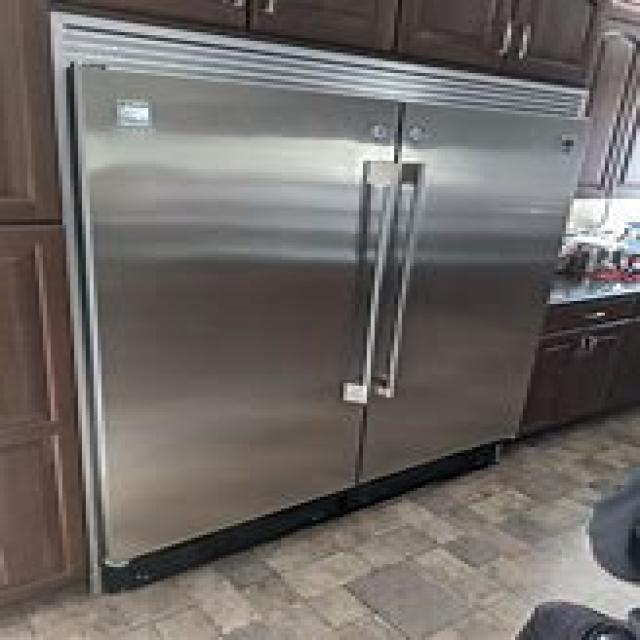fridge: (51, 12, 593, 593)
